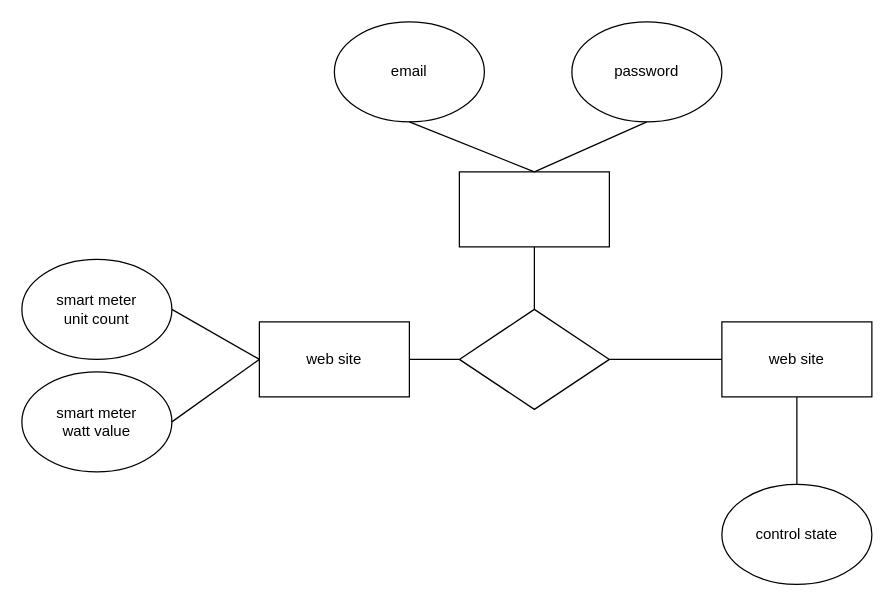
The diagram is 894 pixels wide and 606 high, and some of its shapes have lost their labels. The centre of each missing label's shape, as x and y in pixels:
database: the point at 533,358
user login: the point at 533,209
